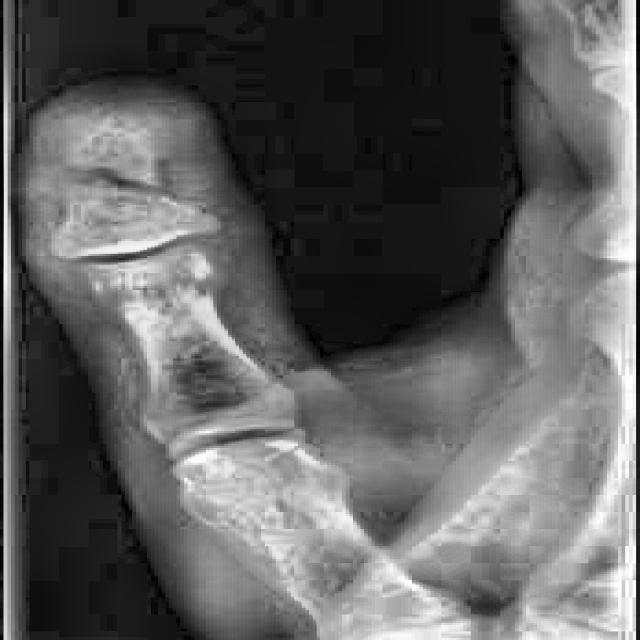fracture: (55, 162, 173, 196)
